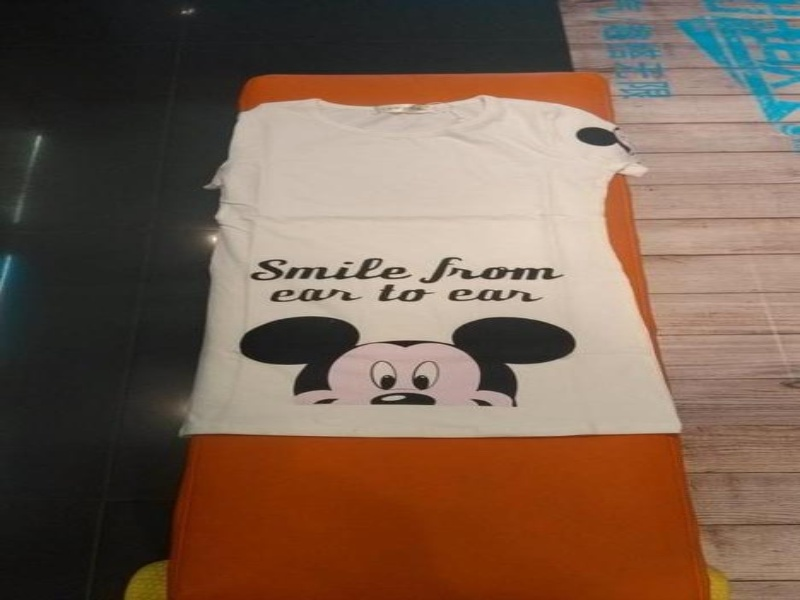short_sleeved_dress: (168, 95, 692, 443)
